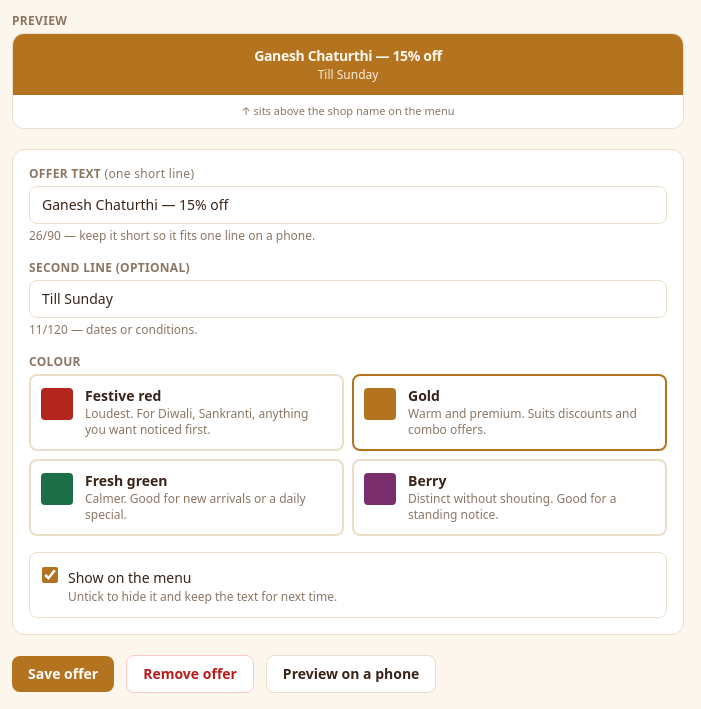
Test: removing the offer › asks before throwing the text away
This screenshot has width=701, height=709.
Step 1. Click the button "Remove offer" → (190, 674), box [126,655,254,693]
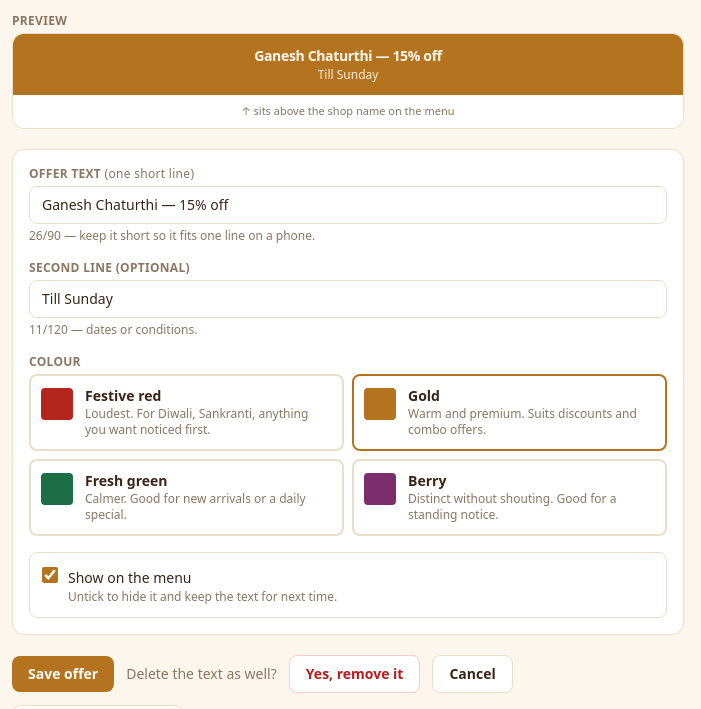
Check: the text "Delete the text as well?" is shown, box [126,664,277,684]
